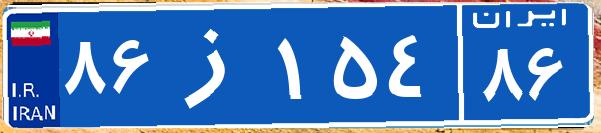1: (273, 28, 330, 110)
4: (385, 28, 445, 110)
5: (330, 28, 385, 110)
6: (110, 28, 158, 105), (525, 38, 570, 115)
8: (57, 26, 110, 107), (475, 38, 525, 113)
ز: (158, 15, 273, 115)
